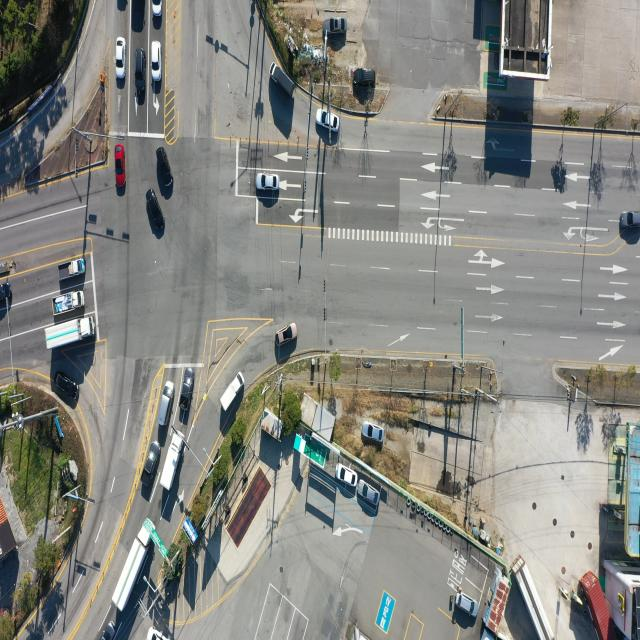car: (146, 187, 164, 234), (177, 362, 194, 411), (158, 381, 175, 428), (157, 146, 172, 198), (142, 440, 160, 483), (135, 46, 147, 102), (116, 143, 128, 195), (454, 594, 478, 618), (314, 112, 337, 136), (276, 323, 298, 348), (358, 482, 379, 508), (336, 463, 358, 486), (362, 422, 383, 442), (115, 38, 125, 80), (256, 173, 279, 191), (353, 67, 376, 85), (150, 42, 160, 82), (327, 18, 347, 35), (621, 211, 640, 228), (0, 280, 13, 304), (102, 622, 117, 640), (152, 0, 162, 17), (117, 0, 127, 12)
medium_truck: (114, 516, 157, 612), (517, 553, 557, 638), (46, 316, 96, 354), (158, 432, 184, 495)
small_truck: (53, 367, 81, 406), (222, 372, 246, 414), (271, 59, 296, 92), (55, 290, 87, 313), (58, 260, 86, 282)
